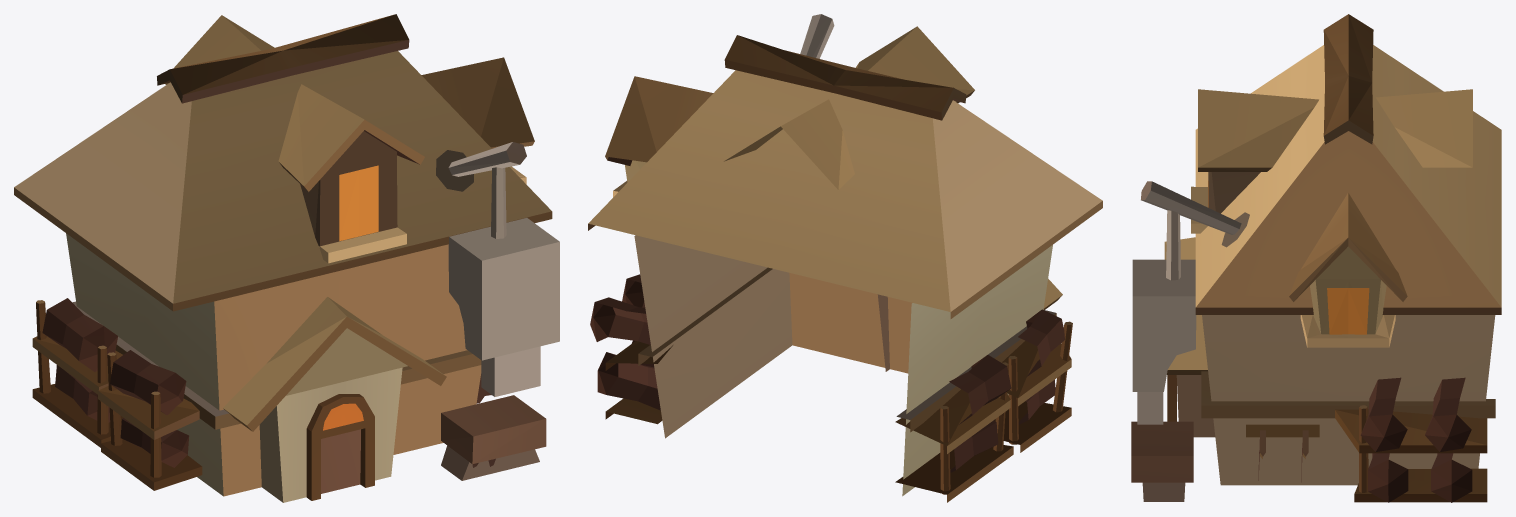
Rendered from building11.fbx.
The picture shows the model from 3 angles, left to right: view 1: azimuth 30°, elevation 25°; view 2: azimuth 150°, elevation 25°; view 3: azimuth 270°, elevation 25°; orthographic projection. The views are drawn at different scales.
Visible parts, largest first — view 1: building11; view 2: building11; view 3: building11.
Part boxes in pixels (left/top/right/bottom): building11: left=14, top=14, right=559, bottom=502; building11: left=588, top=14, right=1102, bottom=502; building11: left=1131, top=14, right=1501, bottom=502.
Size of the model in its own units: 2.02 by 1.77 by 1.63.
Materials: 1 (1 with a texture image).
